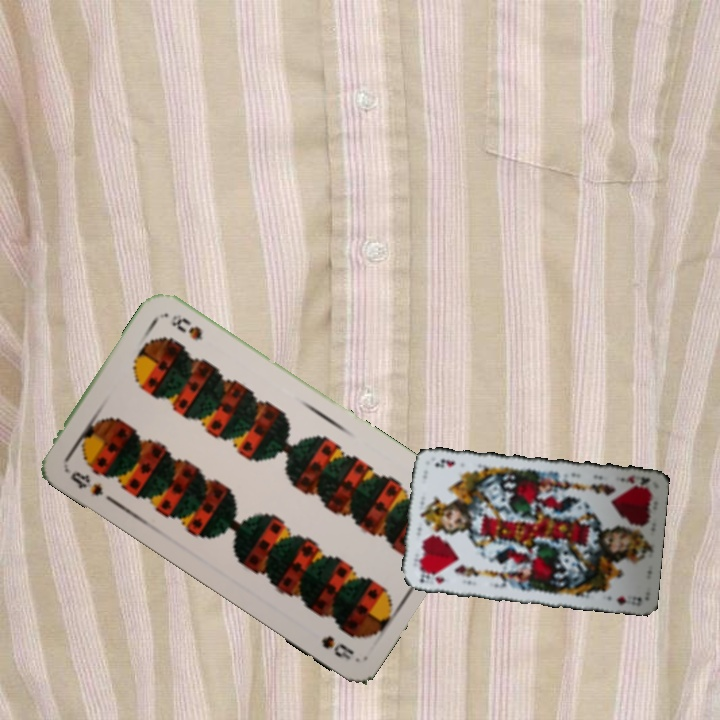HK: (617, 471, 653, 490), (415, 570, 448, 586)
S8: (66, 467, 106, 499)
